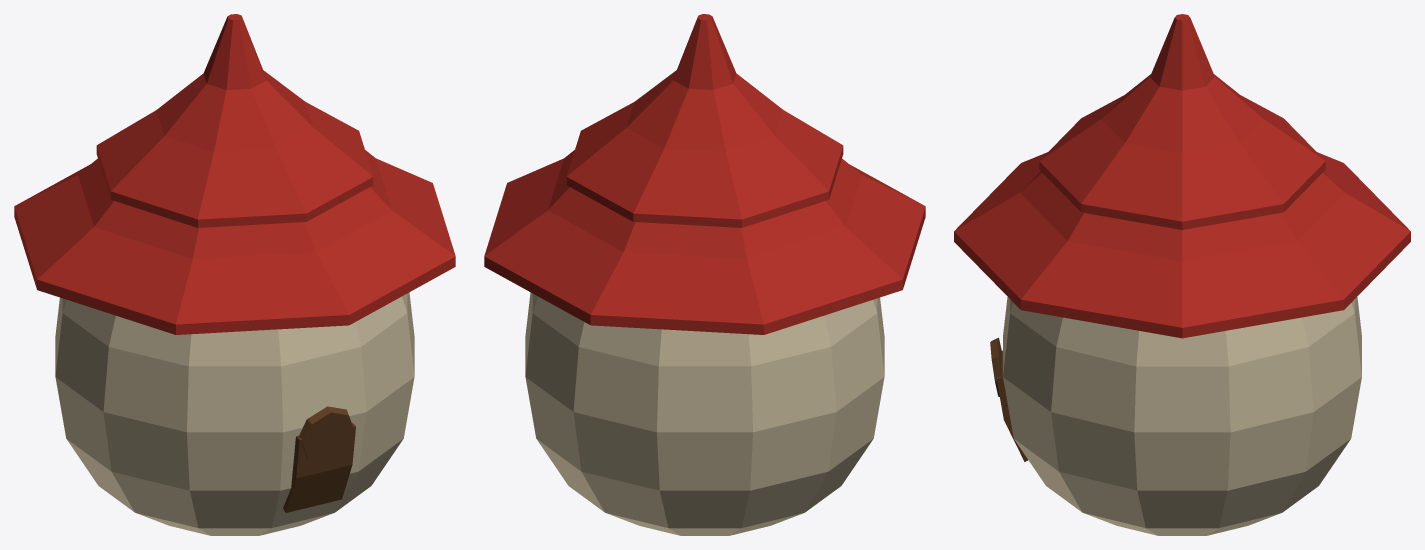
File: BambooPagoda.fbx
3 views of the same model, side by side, from view 1: azimuth 30°, elevation 25°; view 2: azimuth 150°, elevation 25°; view 3: azimuth 270°, elevation 25° (orthographic).
Visible parts, largest first — view 1: Body; view 2: Body; view 3: Body.
Part boxes in pixels (<box>): Body: <box>14,14,455,535</box>; Body: <box>484,14,925,535</box>; Body: <box>954,14,1410,535</box>.
Size of the model in its own units: 5.9 by 6.85 by 5.9.
